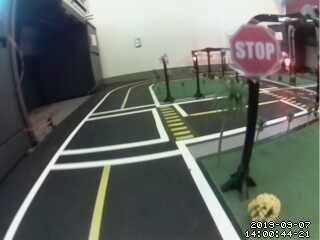Stop_Sign: (228, 22, 288, 79)
